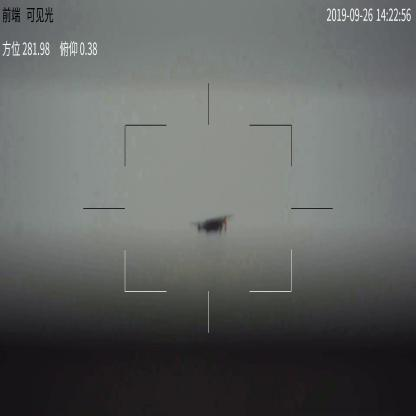uav: (191, 212, 233, 238)
